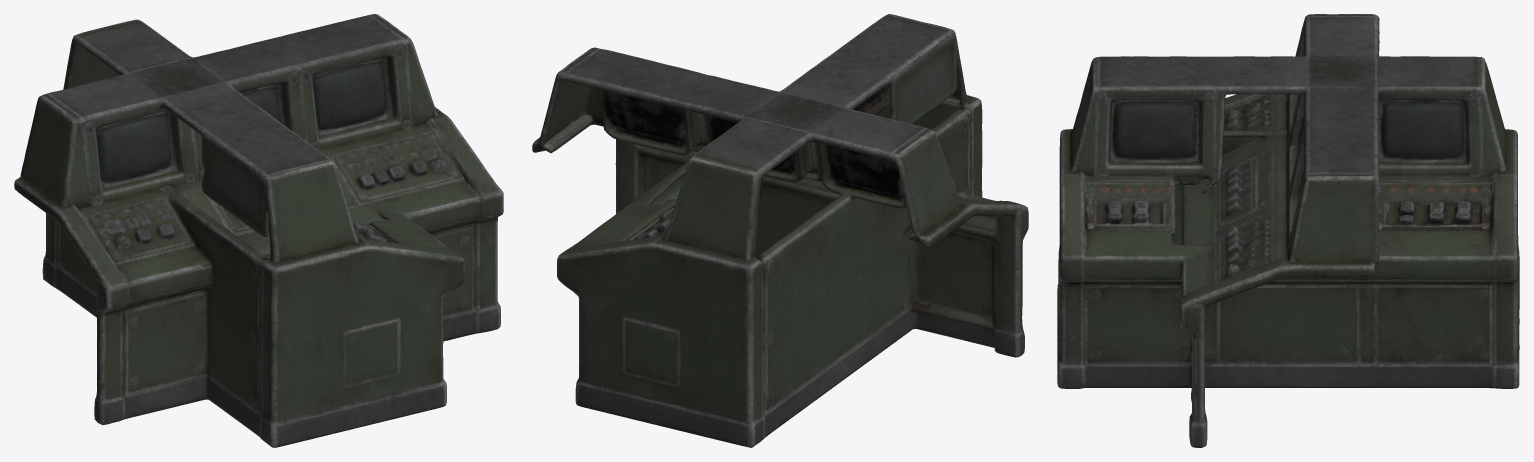
File: bunker_command_console.glb
The picture shows the model from 3 angles, left to right: view 1: azimuth 30°, elevation 25°; view 2: azimuth 150°, elevation 25°; view 3: azimuth 270°, elevation 25°; orthographic projection.
Bounding box in the file's own units: 1.01 × 0.618 × 1.01.
1 material, 1 textured.
